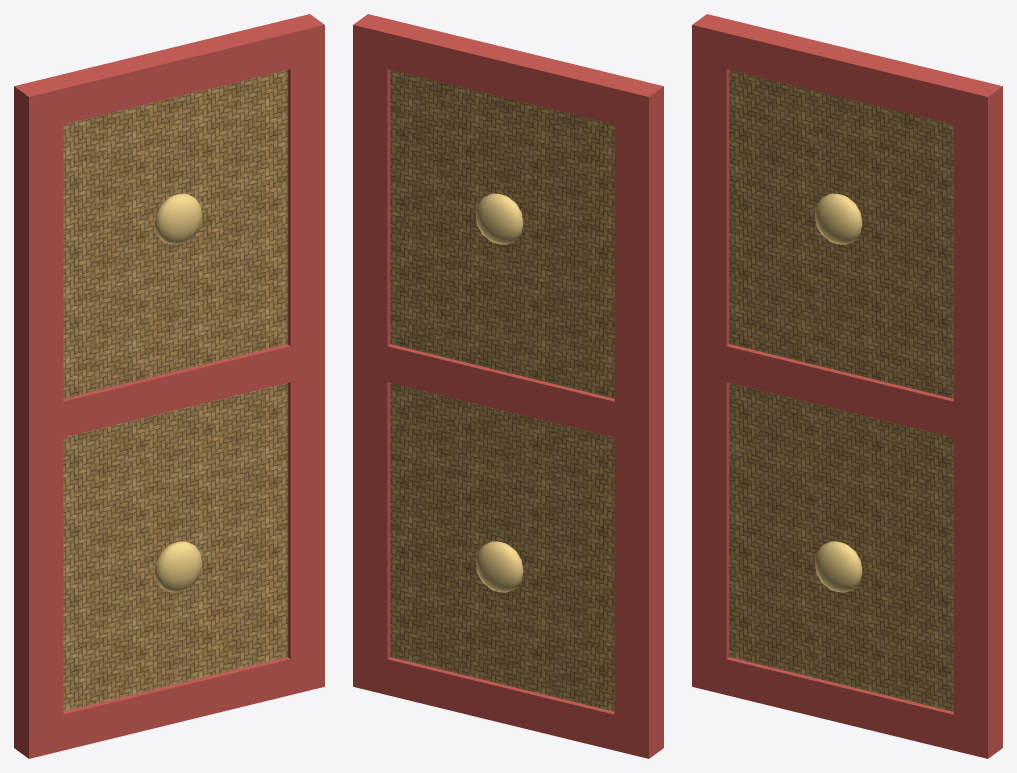
Rendered from ENV_Dimsum_DoorLeaf.fbx.
The picture shows the model from 3 angles, left to right: view 1: azimuth 30°, elevation 25°; view 2: azimuth 150°, elevation 25°; view 3: azimuth 330°, elevation 25°; orthographic projection.
Visible parts, largest first — view 1: ENV_Dimsum_DoorLeaf; view 2: ENV_Dimsum_DoorLeaf; view 3: ENV_Dimsum_DoorLeaf.
Part boxes in pixels (x1,y1,x2,y2): ENV_Dimsum_DoorLeaf: (14, 14, 324, 758); ENV_Dimsum_DoorLeaf: (353, 14, 663, 758); ENV_Dimsum_DoorLeaf: (692, 14, 1002, 758).
Size of the model in its own units: 1.38 by 2.95 by 0.254.
